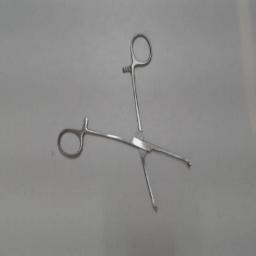Allis Tissue Forceps: (55, 27, 199, 219)
